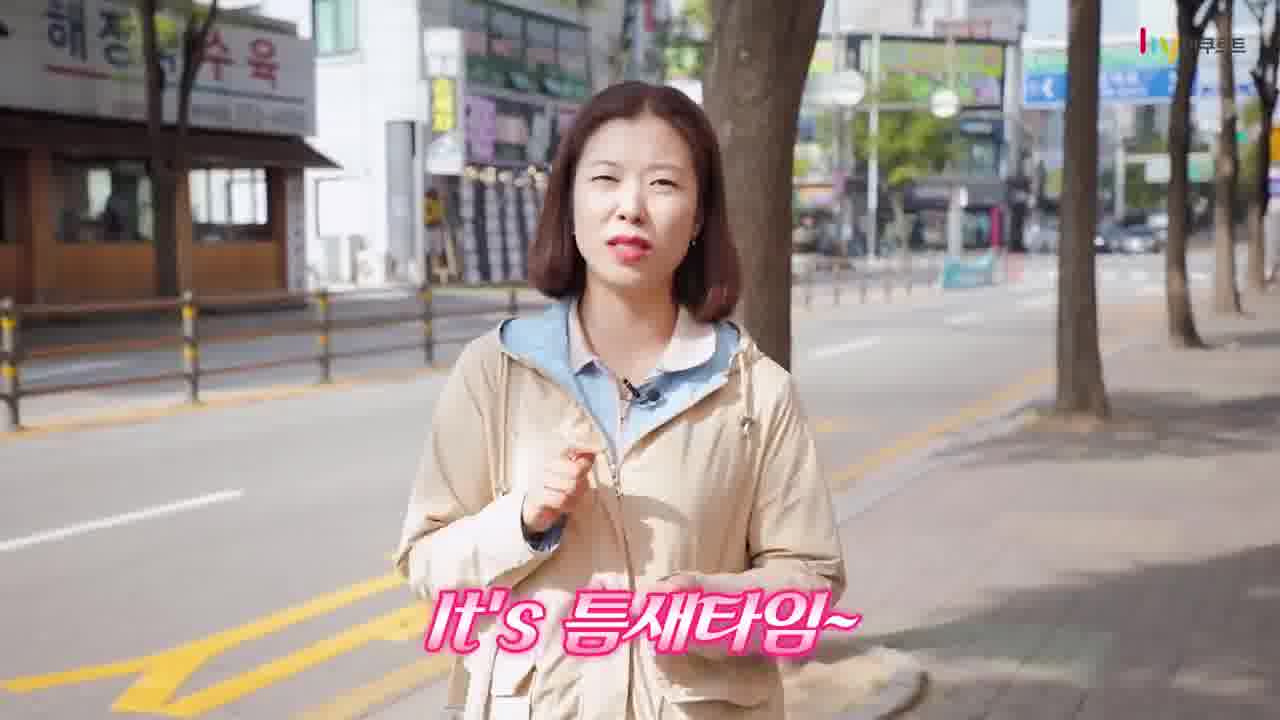Yakurut: (391, 81, 867, 720)
